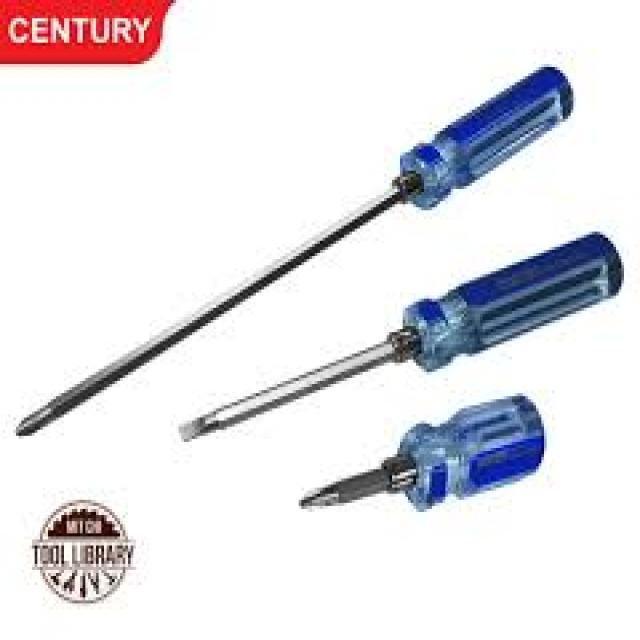screwdriver: (2, 64, 576, 439), (170, 221, 632, 459), (288, 392, 547, 514)
